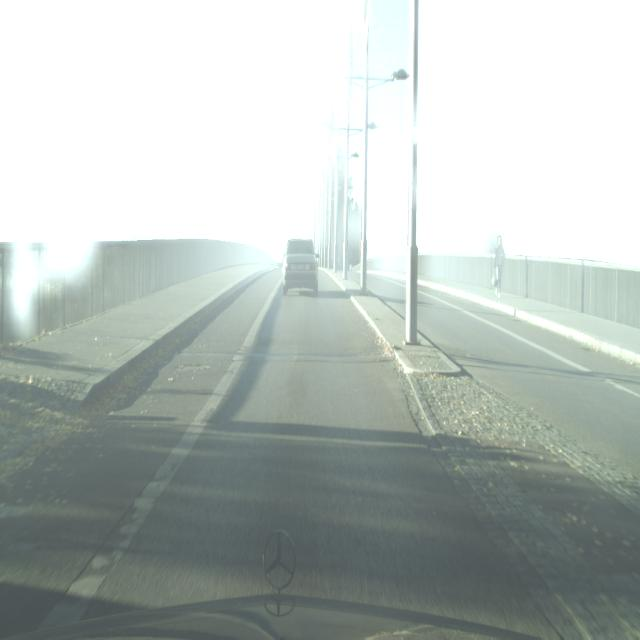bus: (280, 235, 322, 298)
person: (491, 235, 506, 297)
